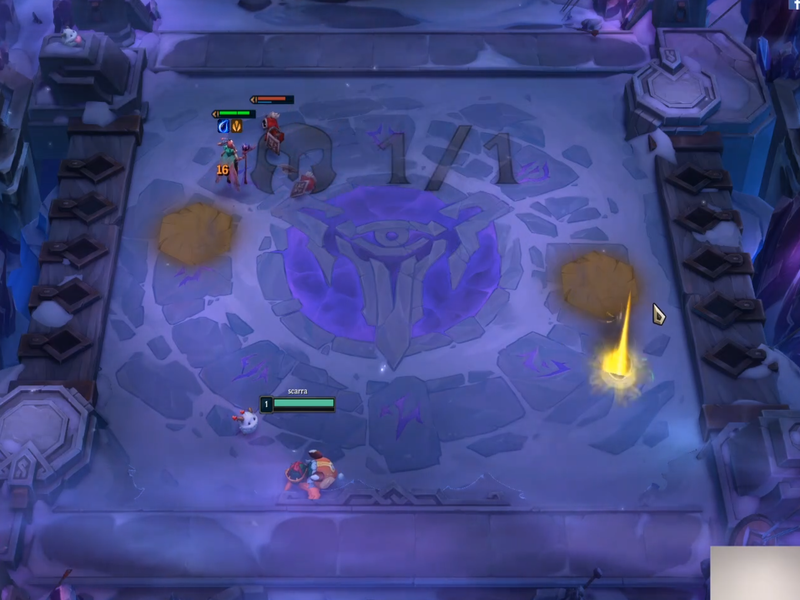leblanc 1: (215, 136, 257, 193)
